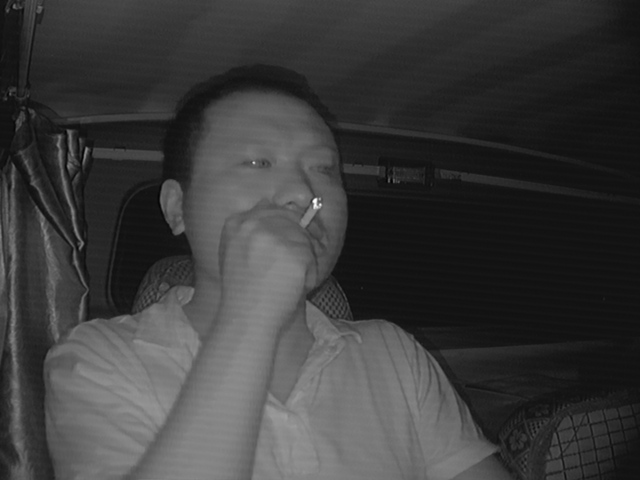hand: (235, 199, 331, 295)
